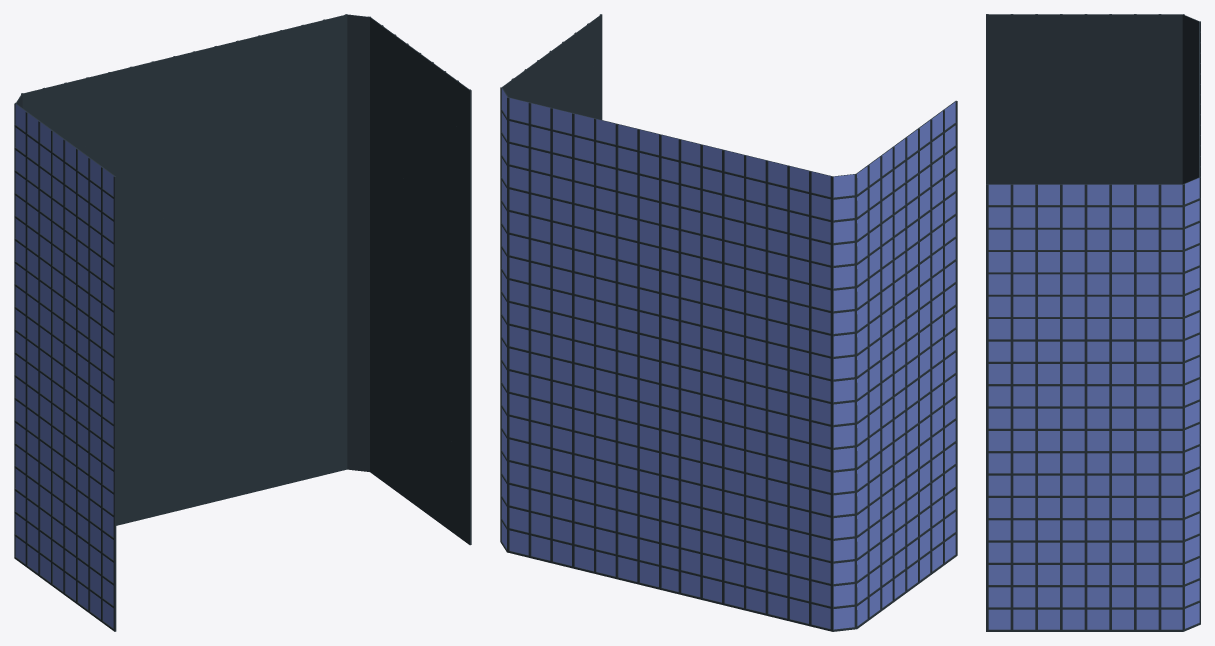
Rendered from Skysscraper_Billboard.fbx.
3 views of the same model, side by side, from view 1: azimuth 30°, elevation 25°; view 2: azimuth 150°, elevation 25°; view 3: azimuth 270°, elevation 25° (orthographic).
Visible parts, largest first — view 1: Cube.004; view 2: Cube.004; view 3: Cube.004.
Boxes of the visible parts, box(x1,y1,x2,y2) form: Cube.004: box(14, 14, 471, 631); Cube.004: box(500, 14, 957, 631); Cube.004: box(986, 14, 1200, 631).
Bounding box in the file's own units: 3284 × 4000 × 1742.
